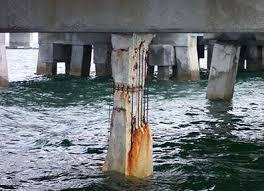Corrosion: (127, 123, 149, 177)
Exposed reinforcement: (137, 44, 142, 126), (140, 50, 144, 126), (143, 54, 147, 124), (146, 53, 149, 125), (130, 91, 134, 134), (113, 85, 141, 89), (113, 88, 140, 92), (112, 107, 127, 113), (113, 47, 129, 52)
